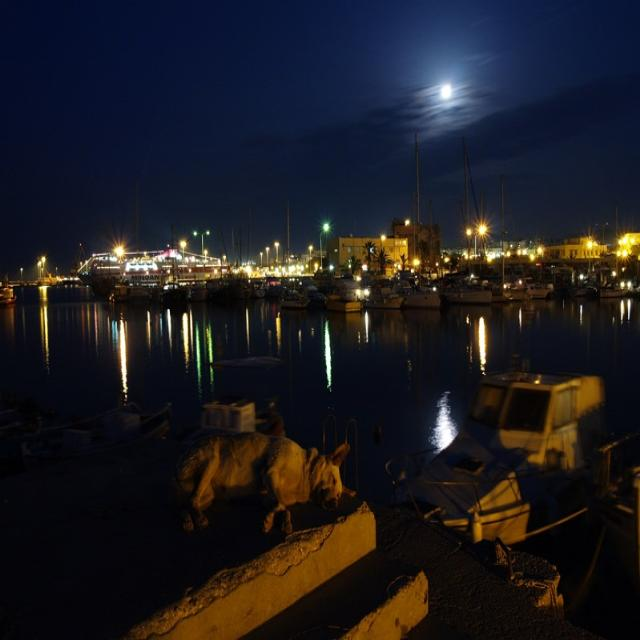Dog: (156, 422, 375, 565)
